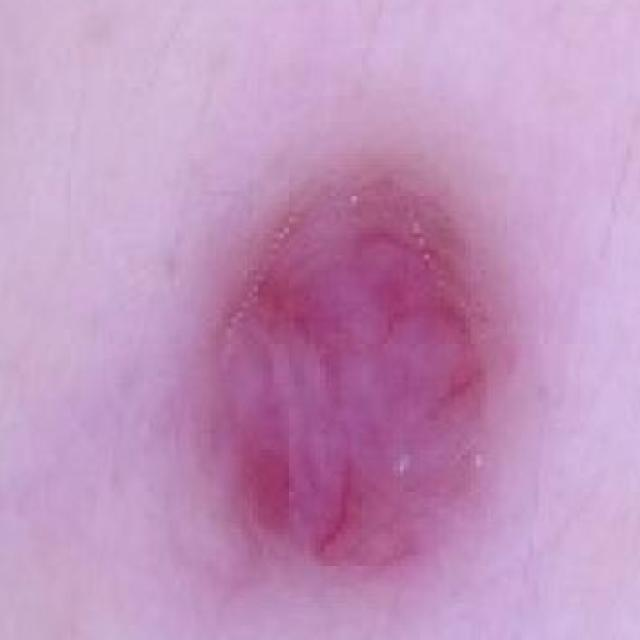VASC: (175, 76, 560, 640)
